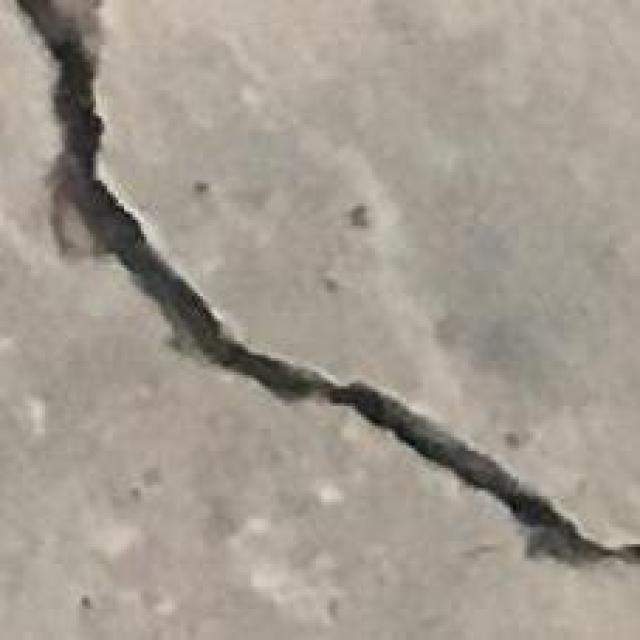Crack: (3, 3, 640, 581)
